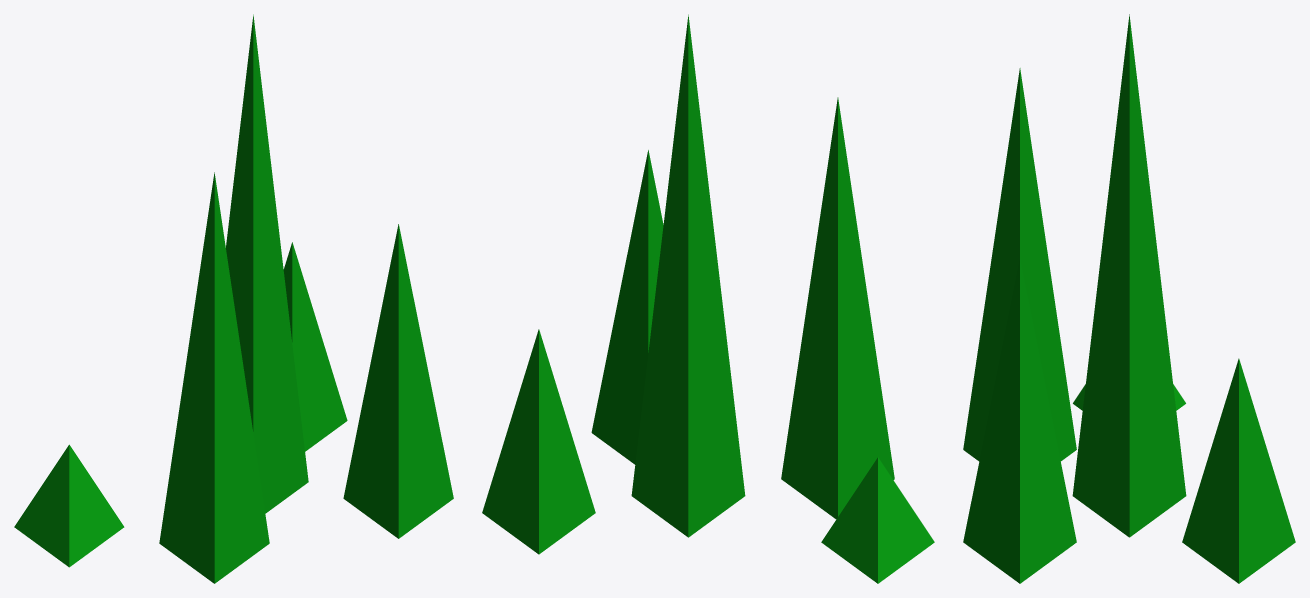
Rendered from Grass.fbx.
3 views of the same model, side by side, from view 1: azimuth 30°, elevation 25°; view 2: azimuth 150°, elevation 25°; view 3: azimuth 270°, elevation 25° (orthographic). The views are drawn at different scales.
Visible parts, largest first — view 1: Grass; view 2: Grass; view 3: Grass.
Part boxes in pixels (box(x1,y1,x2,y2)): Grass: box(14, 14, 453, 583); Grass: box(482, 14, 934, 583); Grass: box(963, 14, 1295, 583).
Bounding box in the file's own units: 19.5 × 25 × 15.2.
